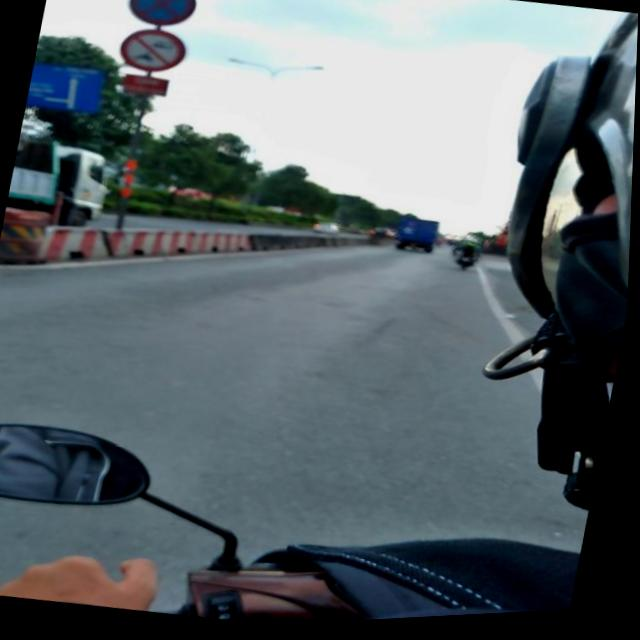Cam dung xe va do xe: (124, 0, 200, 34)
